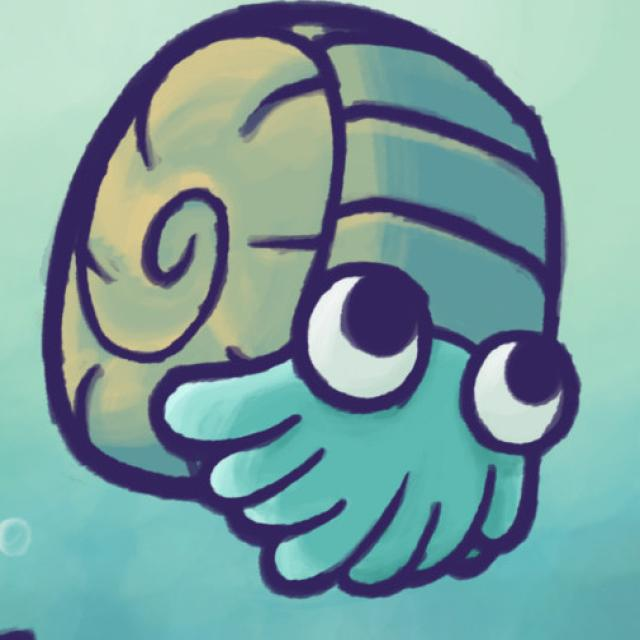Omanyte: (41, 1, 568, 593)
